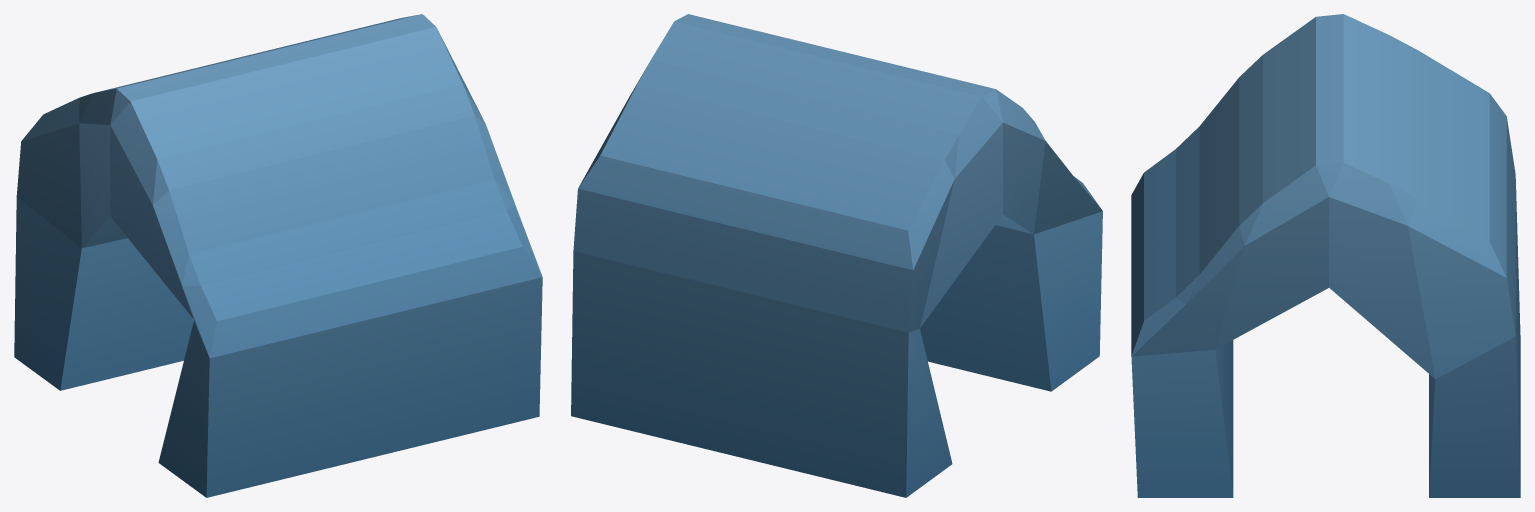
Rendered from SM_IceHallwayRock1.fbx.
3 renders of one model, left to right at view 1: azimuth 30°, elevation 25°; view 2: azimuth 150°, elevation 25°; view 3: azimuth 270°, elevation 25°, orthographic.
Visible parts, largest first — view 1: SM_IceHallwayRock1; view 2: SM_IceHallwayRock1; view 3: SM_IceHallwayRock1.
Boxes of the visible parts, bbox=[...] form: SM_IceHallwayRock1: bbox=[14, 14, 542, 497]; SM_IceHallwayRock1: bbox=[571, 14, 1102, 497]; SM_IceHallwayRock1: bbox=[1131, 14, 1520, 497].
Size of the model in its own units: 211 by 190 by 203.
